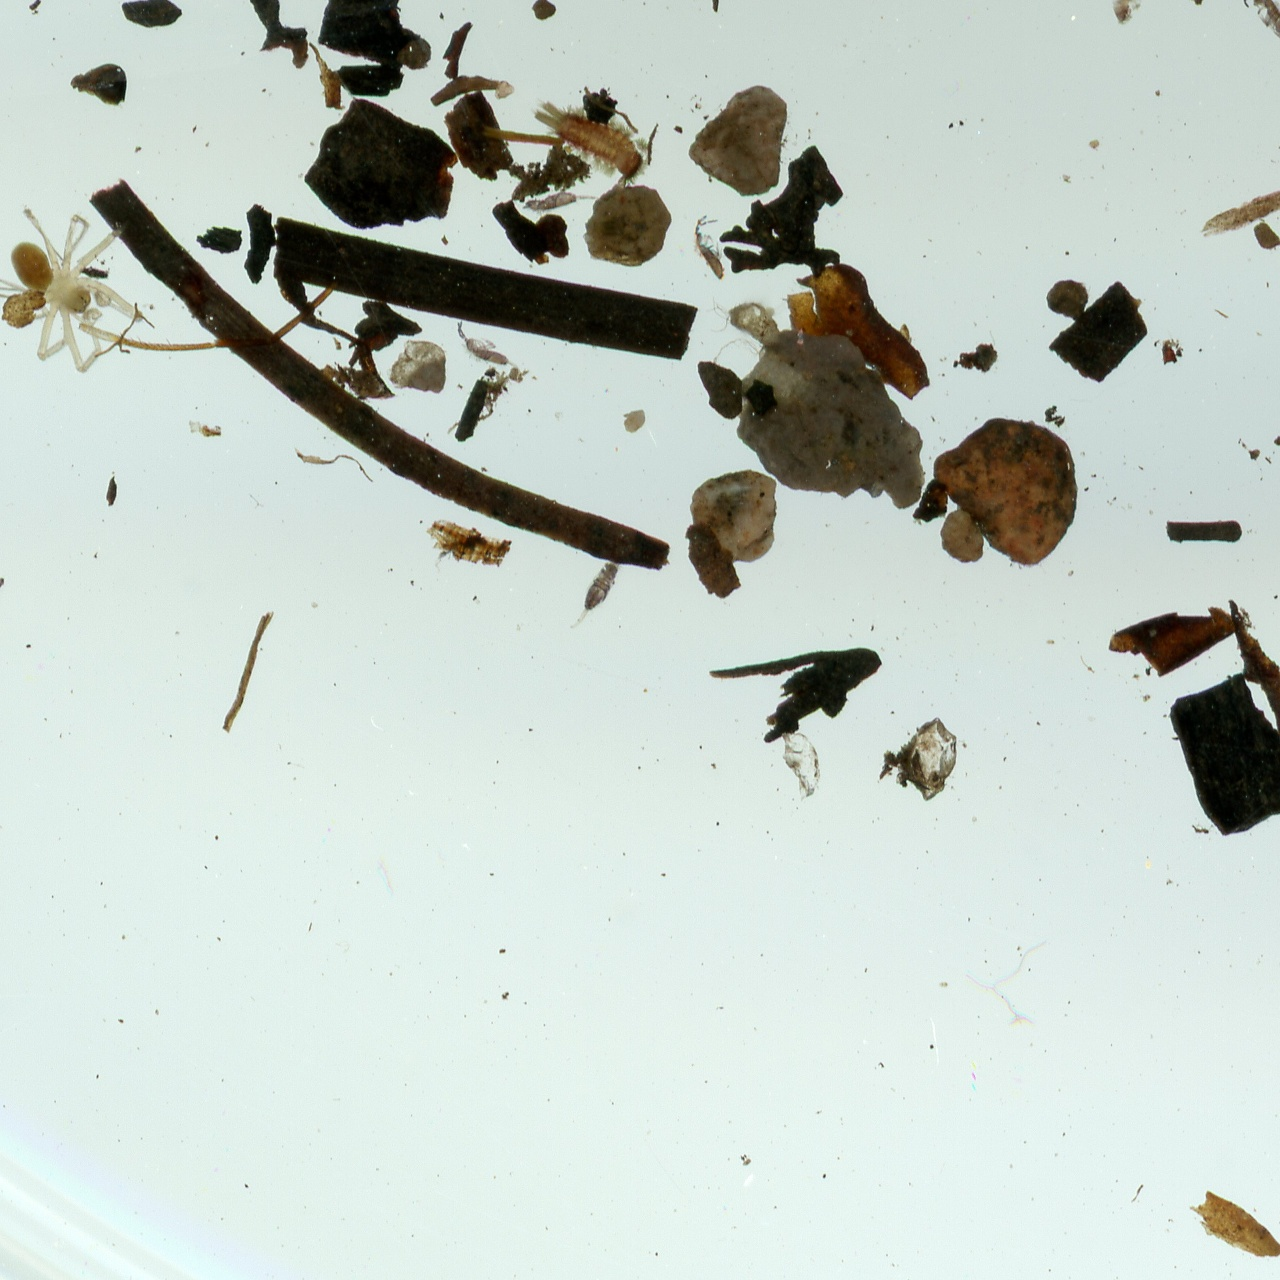arthropod: (0, 204, 151, 377), (518, 86, 663, 193), (441, 316, 537, 386), (561, 551, 626, 640), (689, 212, 729, 282), (1239, 0, 1280, 64), (1076, 0, 1155, 29), (520, 190, 605, 213), (0, 574, 9, 632)
